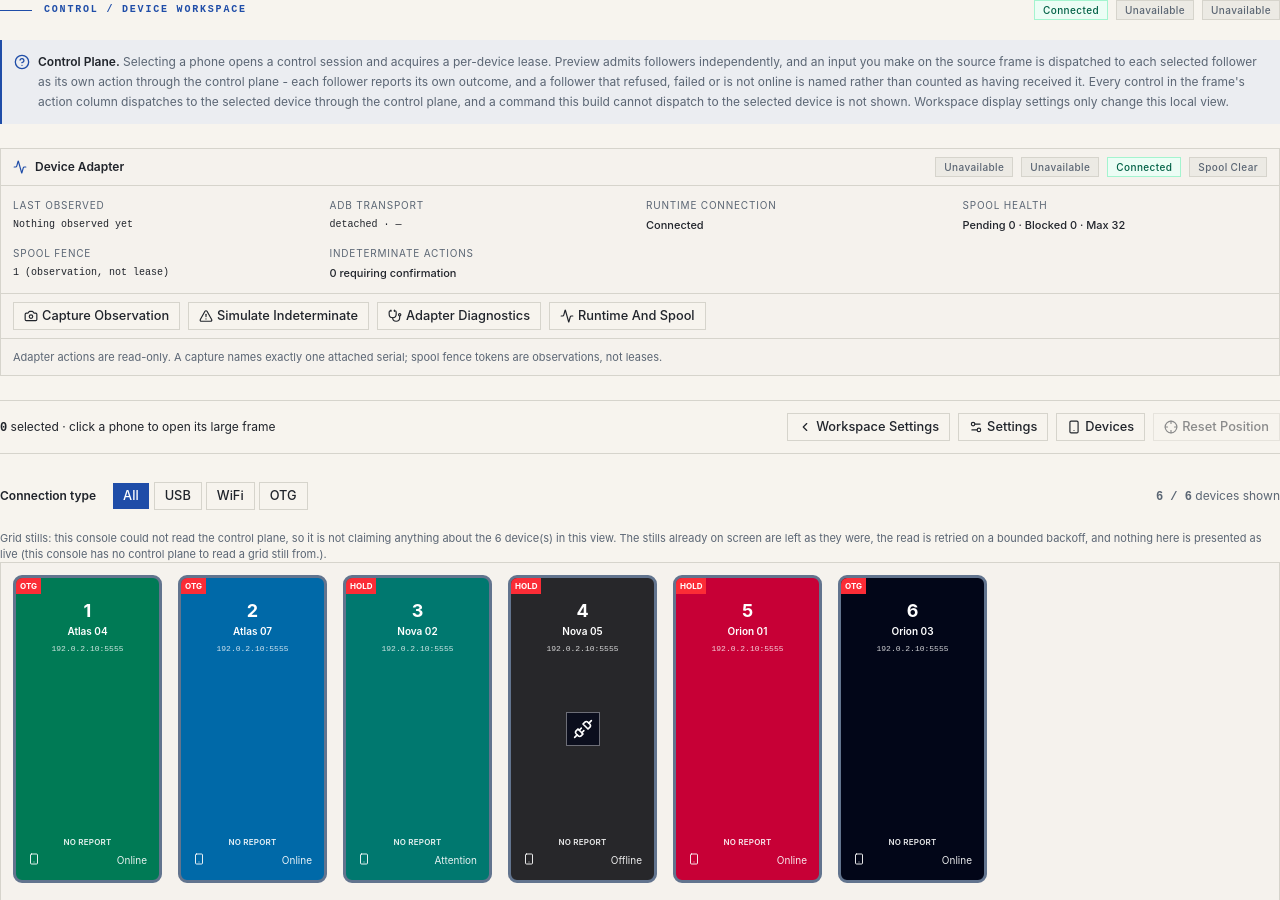
Test case: ControlPage OTG Setup tab › refuses an out-of-range last octet with a named reason and scans nothing
Click the button with aria-label "Open Workspace Settings".
click(869, 427)  # box [787,413,950,441]
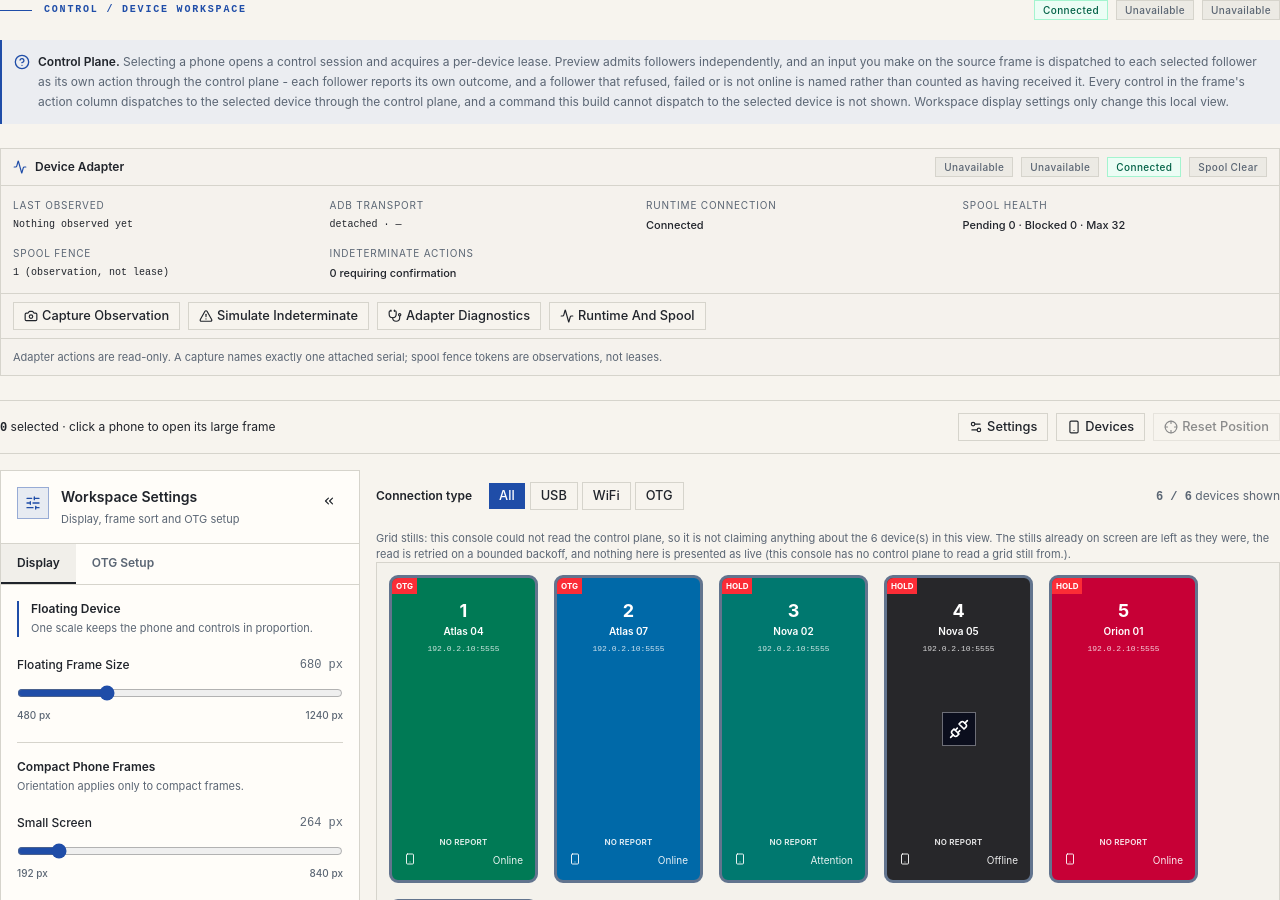
Click the tab "OTG Setup".
click(123, 564)  # box [76,544,170,584]
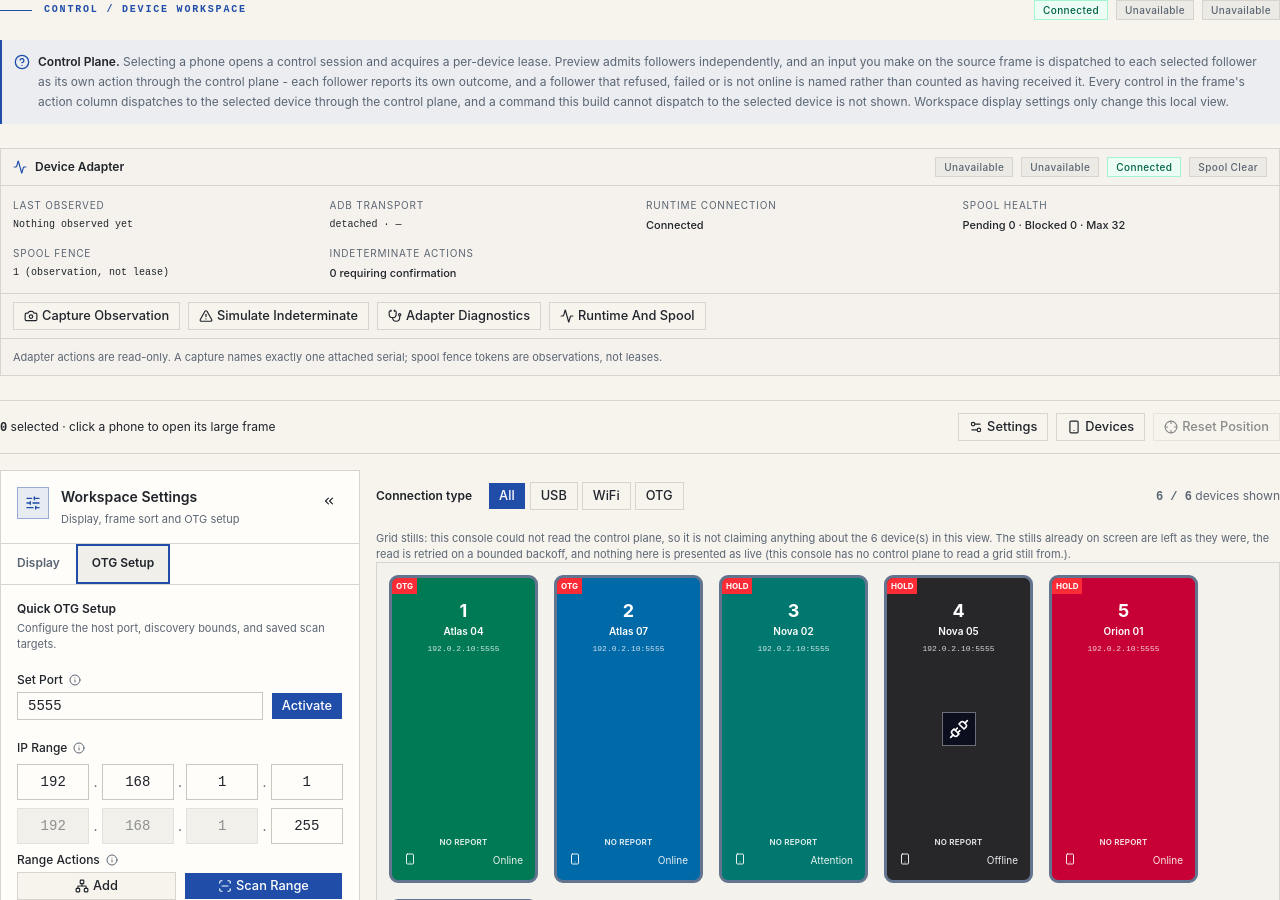
Replace the text in the field named "IP Range End octet 4" with "999" at (307, 826), box [270,808,343,844]
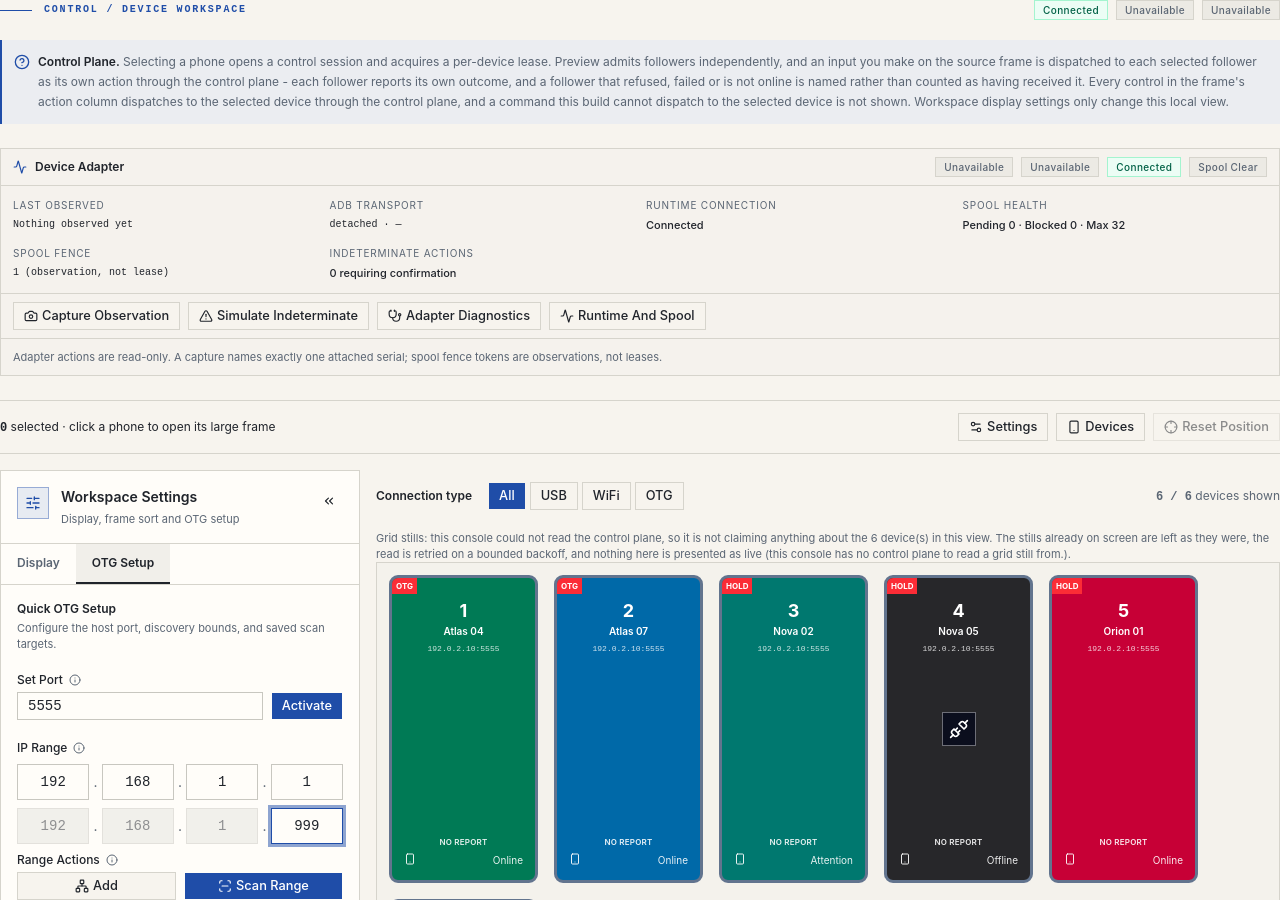
Click the button "Scan Range".
click(264, 886)  # box [184,872,343,899]
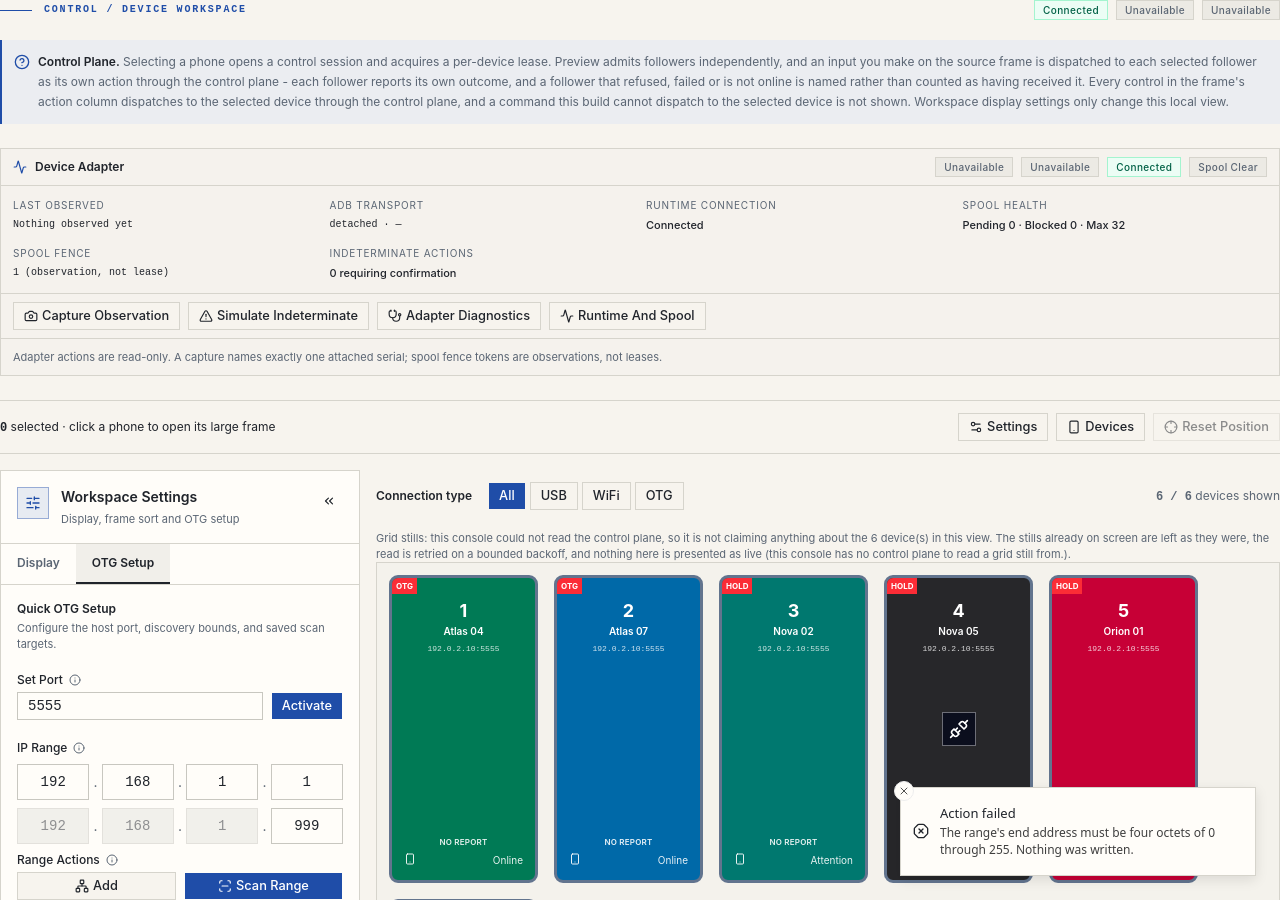
Check: the text "must be four octets of 0 through 255" is shown, box [940,824,1215,858]
